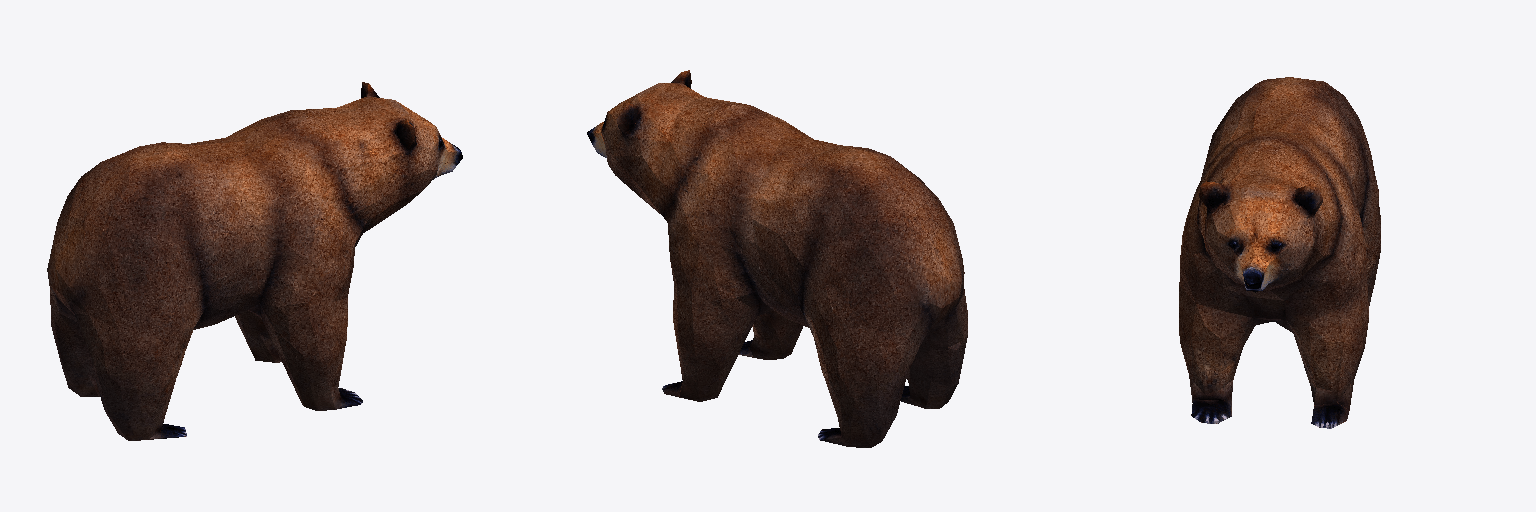
The picture shows the model from 3 angles: view 1: azimuth 30°, elevation 25°; view 2: azimuth 150°, elevation 25°; view 3: azimuth 270°, elevation 25°; orthographic projection.
Parts seen in each view (by area): view 1: Bear_Low_Poly; view 2: Bear_Low_Poly; view 3: Bear_Low_Poly.
Boxes of the visible parts, <box> form: Bear_Low_Poly: <box>47,82,462,440</box>; Bear_Low_Poly: <box>587,70,967,447</box>; Bear_Low_Poly: <box>1179,77,1380,428</box>.
Bounding box in the file's own units: 3.2 × 2.13 × 1.46.
1 materials, 1 textured.